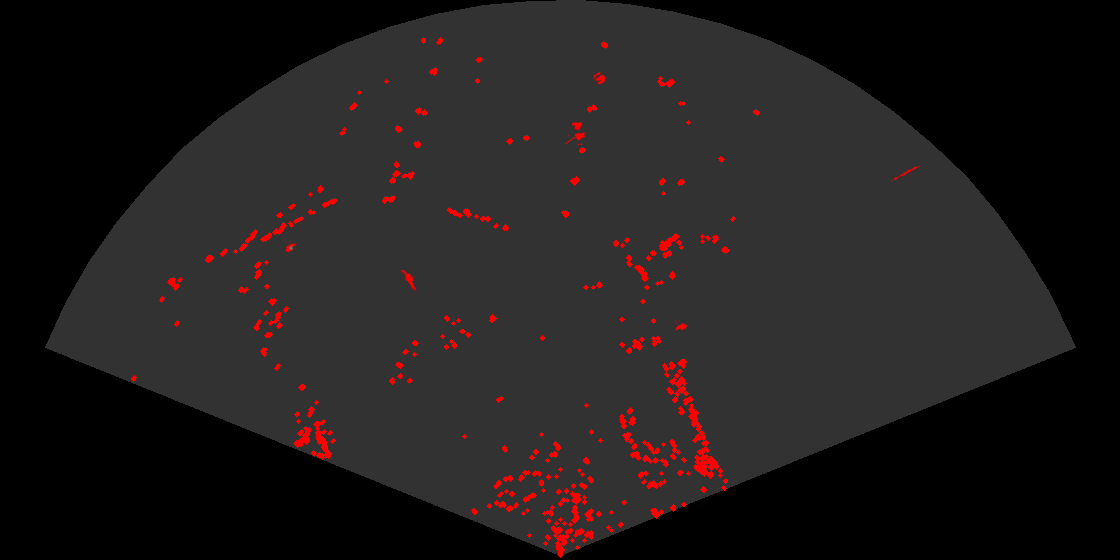AUV: (673, 320, 689, 332), (284, 241, 298, 254)
ball: (592, 70, 607, 86)
cage: (565, 120, 588, 145)
chain: (891, 164, 922, 182)
frogman: (400, 270, 419, 292)
